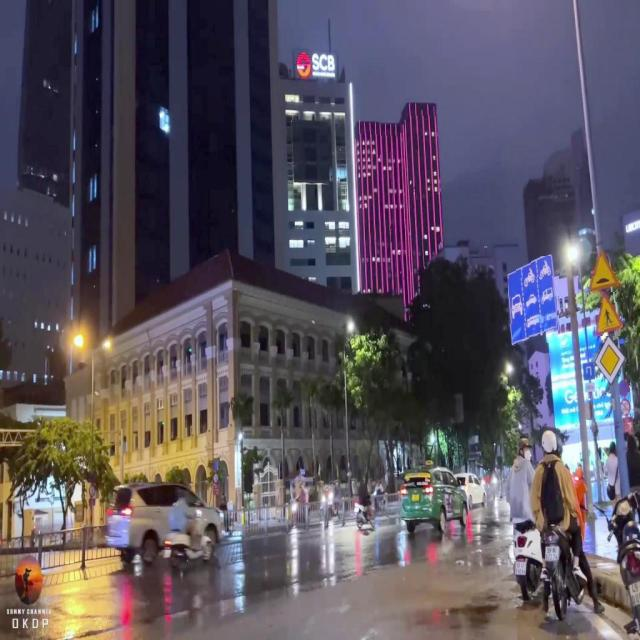chu_y_nguoi_di_bo_cat_ngang: (593, 292, 623, 337)
duong_co_song_map_mo_nhan_tao: (590, 248, 622, 294)
duong_uu_tien: (594, 336, 625, 384)
lan_duong_cho_tung_xe_theo_vach_ke_duong: (508, 256, 560, 346)
